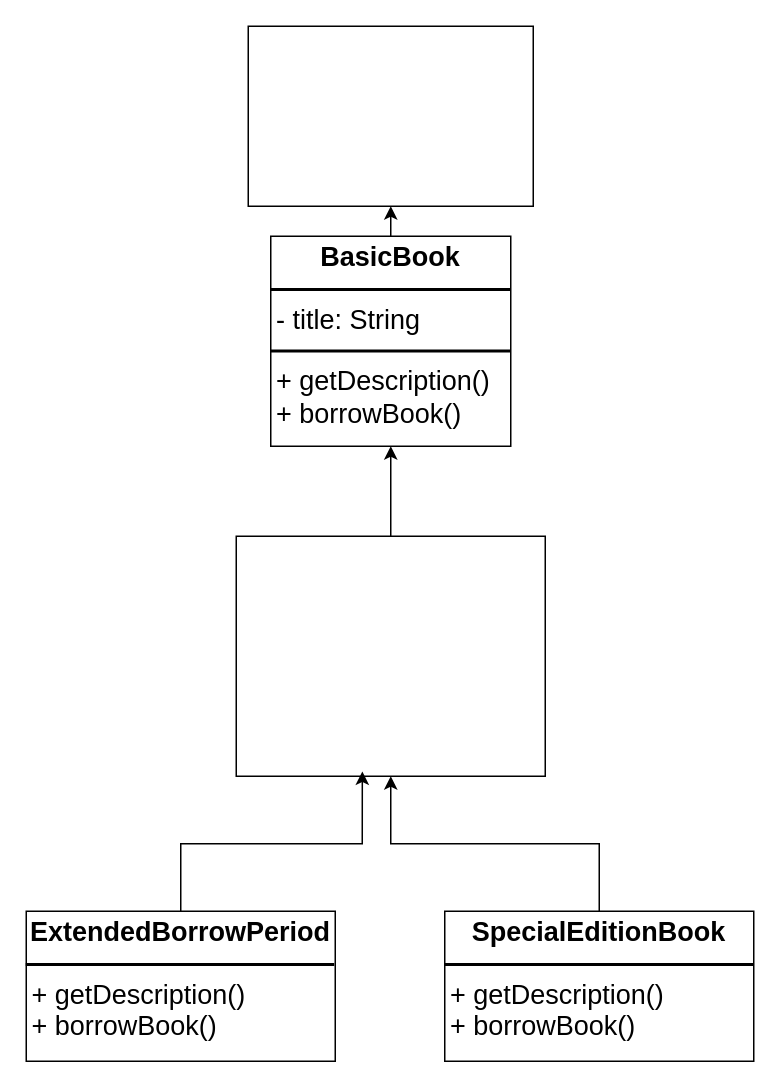
The diagram is 780 pixels wide and 1088 high, and some of its shapes have lost their labels. The shapes that lost their labels are listed below. From the top down, each one's box as (x1, y1, x2, y2) in pixels, then its label:
(247, 25, 533, 206): <<Interface>> BorrowableBook + getDescription() + borrowBook()
(235, 535, 545, 776): BookDecorator - decoratedBook: BorrowableBook + getDescription() + borrowBook()
